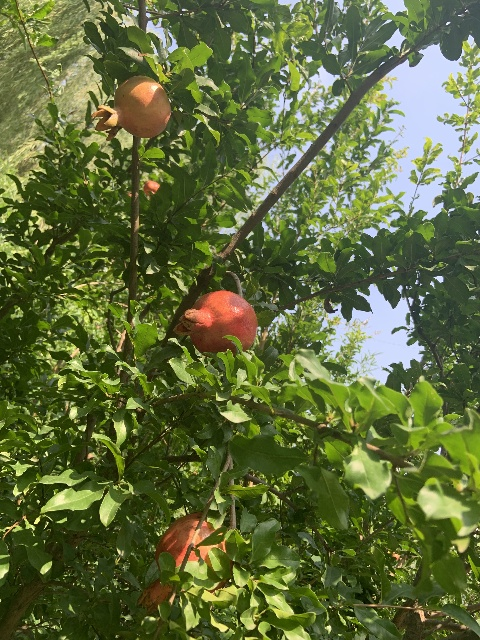ripe: (136, 511, 232, 615), (173, 290, 257, 356), (90, 76, 171, 137), (143, 181, 160, 197)
